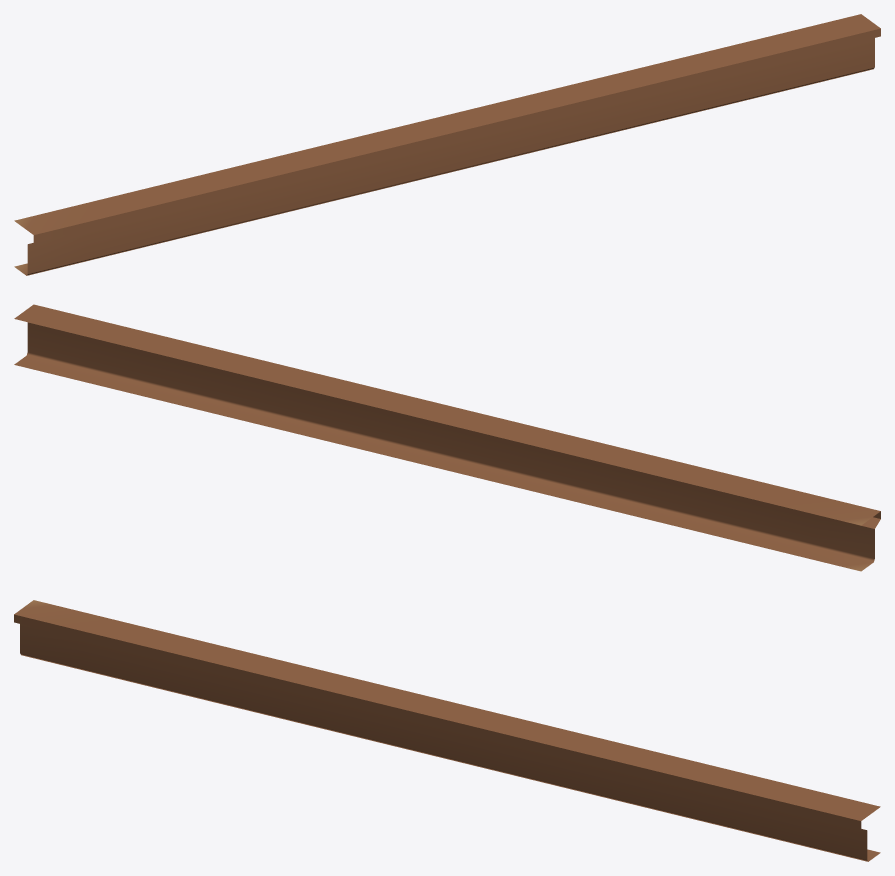
The model's file is DBK_Trim_C_Full.fbx.
The picture shows the model from 3 angles, top to bottom: view 1: azimuth 30°, elevation 25°; view 2: azimuth 150°, elevation 25°; view 3: azimuth 330°, elevation 25°; orthographic projection.
Parts seen in each view (by area): view 1: DBK_Trim_C_Full; view 2: DBK_Trim_C_Full; view 3: DBK_Trim_C_Full.
Part boxes in pixels (x1,y1,x2,y2): DBK_Trim_C_Full: (14,14,880,275); DBK_Trim_C_Full: (14,304,880,571); DBK_Trim_C_Full: (14,600,880,861).
Bounding box in the file's own units: 300 × 15.55 × 12.11.
